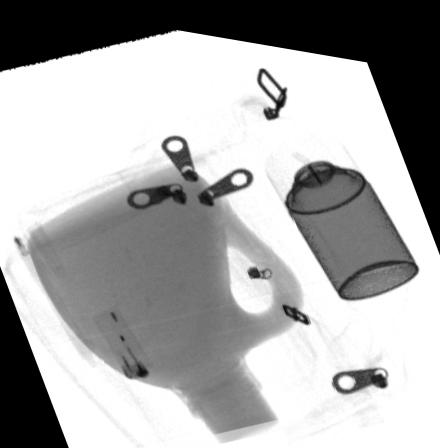Lighter: (92, 302, 158, 375)
Sprayer: (265, 127, 419, 288)
